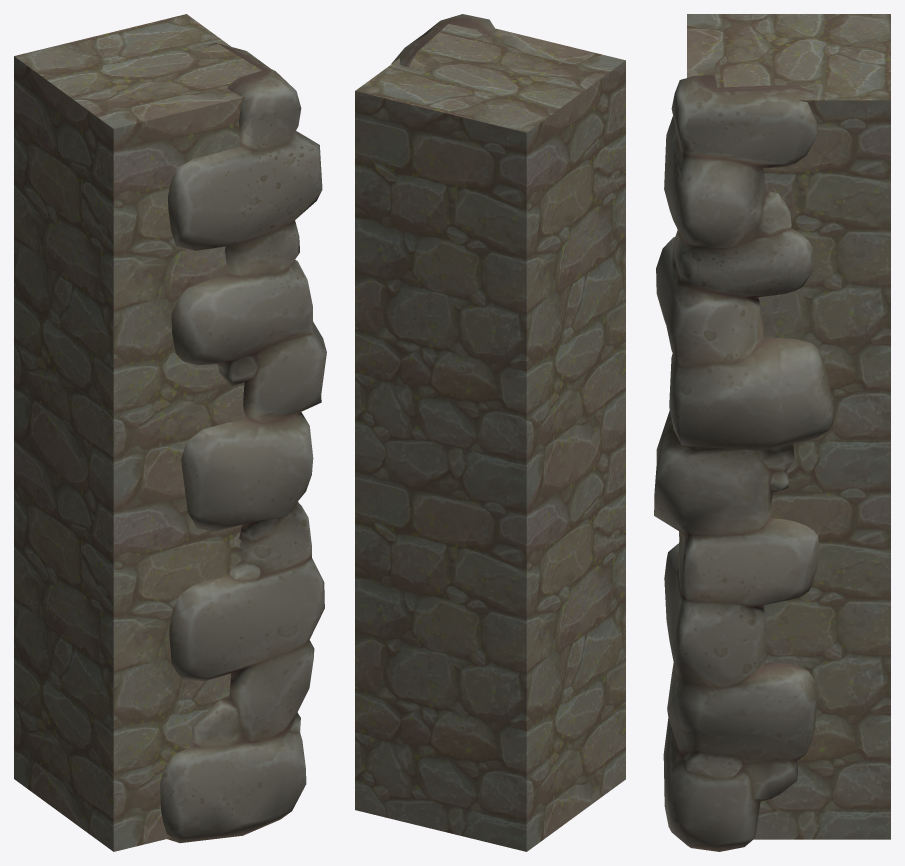
Rendered from SM_FW01_Ruins_Wall_Corner_04.fbx.
3 renders of one model, left to right at view 1: azimuth 30°, elevation 25°; view 2: azimuth 150°, elevation 25°; view 3: azimuth 270°, elevation 25°, orthographic. The views are drawn at different scales.
Visible parts, largest first — view 1: SM_FW01_Ruins_Wall_Corner_04, SM_FW01_Ruins_Wall_Corner_04_LOD0; view 2: SM_FW01_Ruins_Wall_Corner_04, SM_FW01_Ruins_Wall_Corner_04_LOD0; view 3: SM_FW01_Ruins_Wall_Corner_04_LOD0, SM_FW01_Ruins_Wall_Corner_04.
Boxes of the visible parts, x1,y1,x2,y2 form: SM_FW01_Ruins_Wall_Corner_04: (14,14,261,851); SM_FW01_Ruins_Wall_Corner_04_LOD0: (160,43,326,843); SM_FW01_Ruins_Wall_Corner_04: (355,24,625,851); SM_FW01_Ruins_Wall_Corner_04_LOD0: (391,14,494,66); SM_FW01_Ruins_Wall_Corner_04_LOD0: (654,75,833,851); SM_FW01_Ruins_Wall_Corner_04: (687,14,890,839).
Size of what is drawn, in the model's own units: 1.28 by 4.14 by 1.16.
